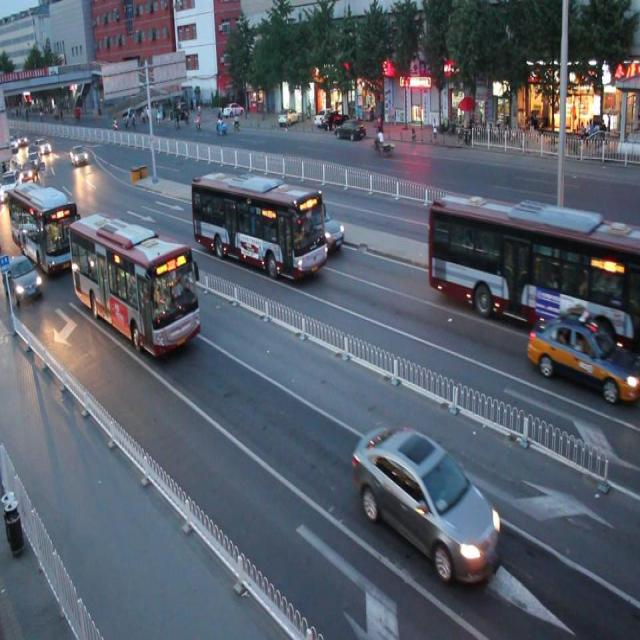car: (349, 424, 498, 584), (526, 314, 640, 404), (286, 200, 342, 250)
van: (426, 189, 640, 345), (67, 212, 201, 358), (189, 170, 326, 280)
